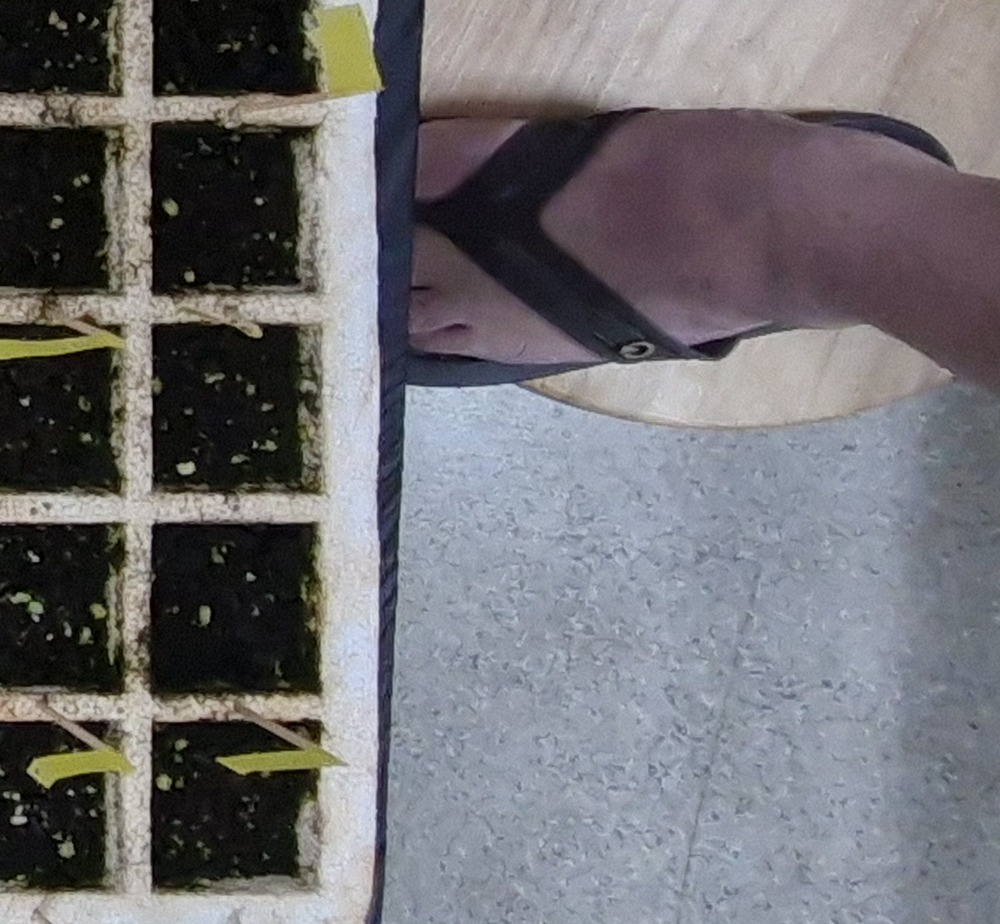Folha: (17, 591, 32, 602), (30, 602, 43, 612)
Germinacao: (16, 592, 45, 614)
